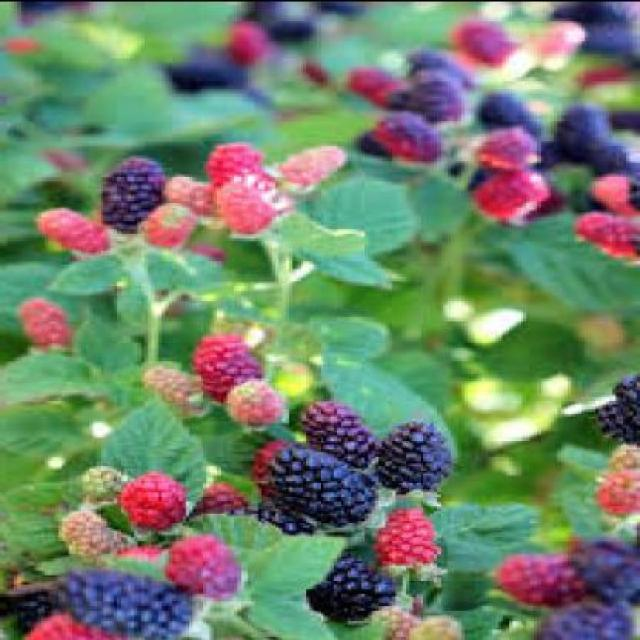BIODEGRADABLE: (278, 441, 382, 519), (76, 567, 196, 633), (300, 552, 395, 618), (372, 419, 452, 493), (168, 528, 248, 598), (103, 150, 165, 230), (499, 548, 588, 600), (582, 534, 638, 609), (560, 1, 638, 54), (203, 330, 265, 396), (309, 392, 365, 462), (172, 42, 252, 90), (541, 598, 636, 638), (388, 508, 444, 574), (475, 161, 543, 213), (392, 66, 454, 123), (461, 20, 533, 68), (385, 114, 458, 161), (275, 142, 348, 188), (227, 173, 285, 230), (134, 474, 189, 531), (65, 507, 124, 559), (582, 212, 638, 266), (4, 576, 65, 624), (560, 105, 609, 162), (42, 204, 106, 247), (475, 125, 537, 168), (27, 614, 138, 638), (230, 377, 285, 425), (24, 294, 73, 346), (488, 92, 541, 136), (406, 46, 454, 94), (213, 138, 258, 185), (258, 507, 320, 541), (144, 202, 196, 242), (155, 365, 199, 412), (540, 19, 585, 64), (591, 170, 638, 212), (598, 397, 638, 441), (403, 612, 465, 638), (176, 171, 213, 214), (20, 2, 92, 24), (234, 19, 268, 64), (271, 14, 327, 40), (588, 54, 638, 83), (602, 477, 640, 514), (598, 143, 638, 175), (206, 482, 248, 512), (364, 126, 396, 160), (540, 178, 571, 213), (604, 104, 638, 130), (251, 2, 291, 24), (616, 443, 638, 479), (616, 374, 638, 409), (332, 1, 372, 14)
